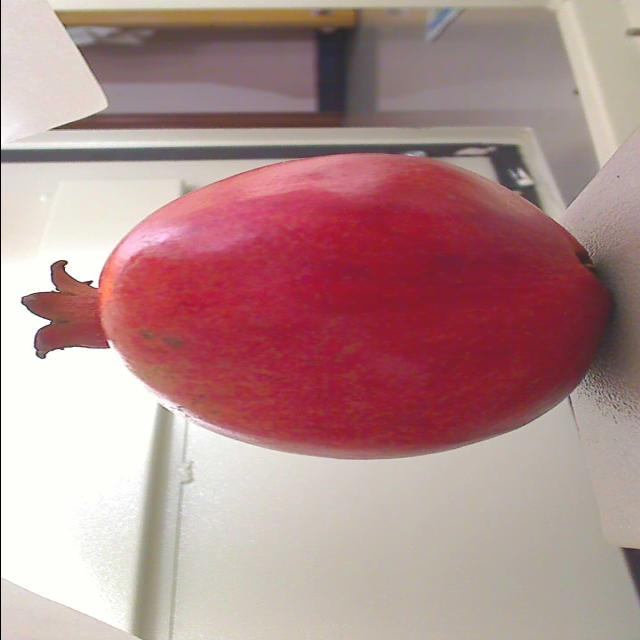pomegranate: (14, 146, 614, 482)
